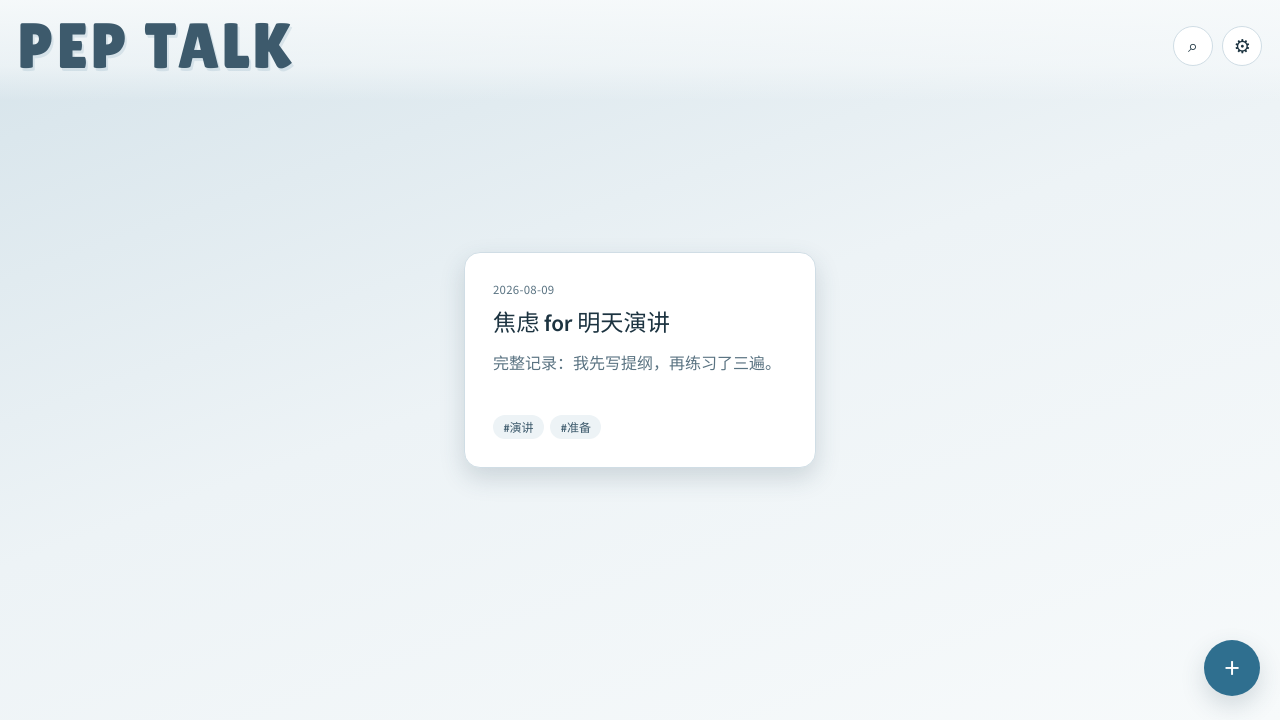
HomePage › opens a case detail overlay and closes it without navigating
The image size is (1280, 720).
Click the button "2026-08-09 焦虑 for 明天演讲 完整记录：我先写提纲，再练习了三遍。 #演讲 #准备" at (640, 360), box [464,252,816,468]
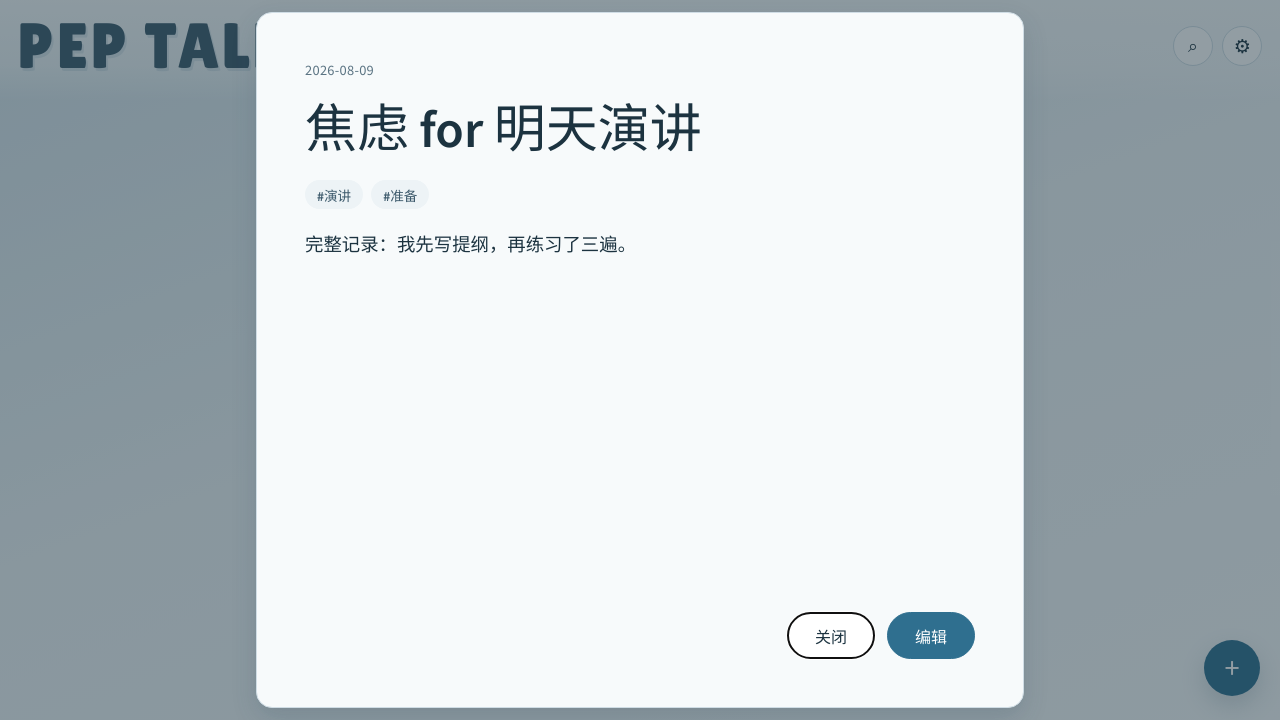
Result: the text "2026-08-09" is shown at [305,61,374,80]
Result: the text "完整记录：我先写提纲，再练习了三遍。" is shown at [305,233,636,257]
Result: the text "#演讲" is shown at [305,180,363,209]
Click the button "关闭" at (831, 636), box [787,612,875,659]
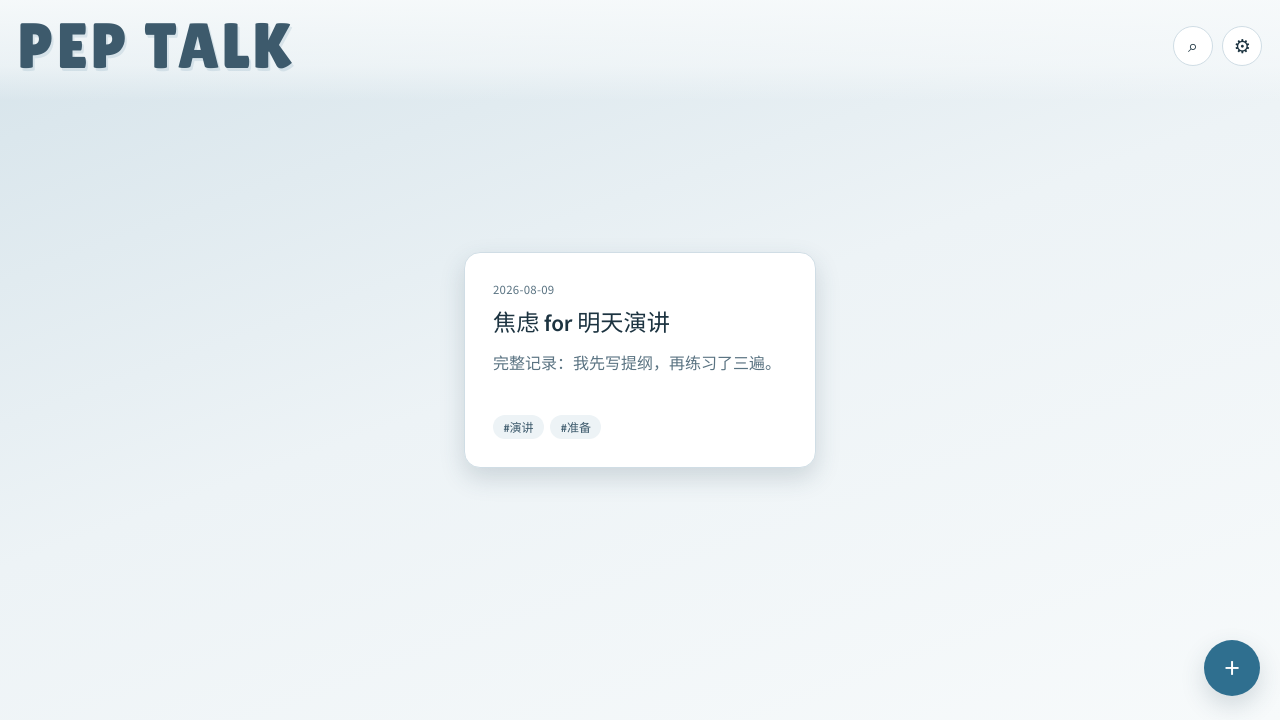
Result: the dialog is gone
